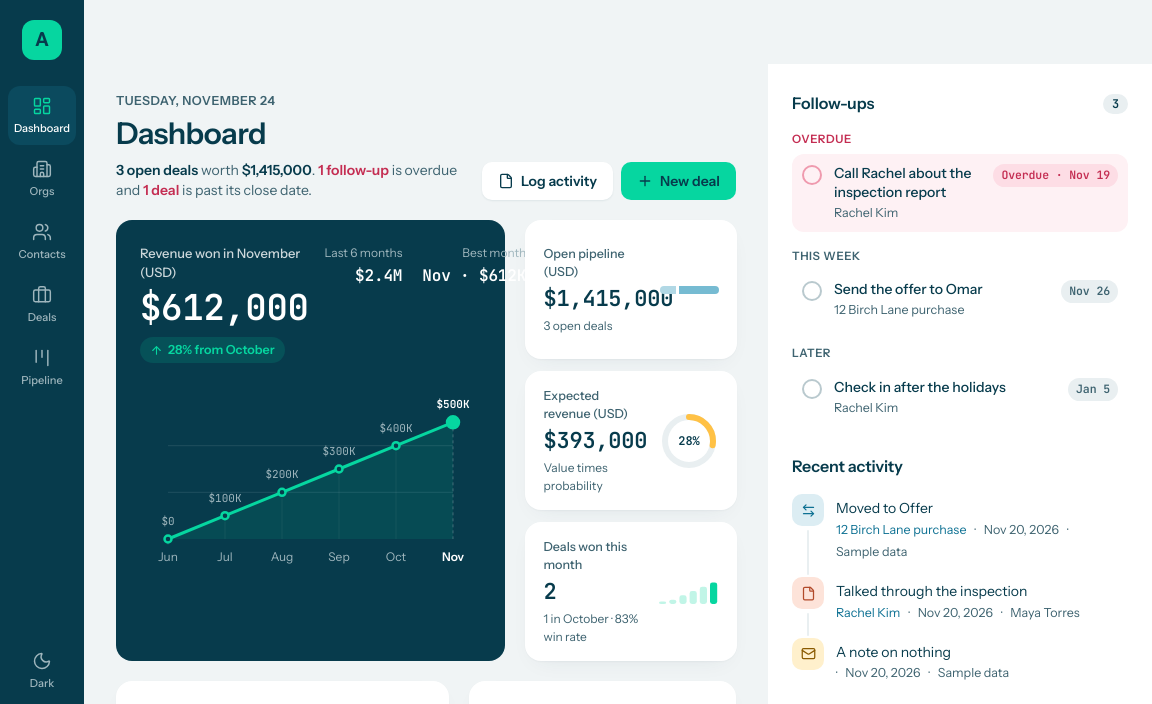
Test case: Dashboard › says why a follow-up couldn't be marked done
This screenshot has width=1152, height=704.
Click the button named "Mark done: Send the offer to Omar". click: (812, 291)
box: [802,281,822,301]
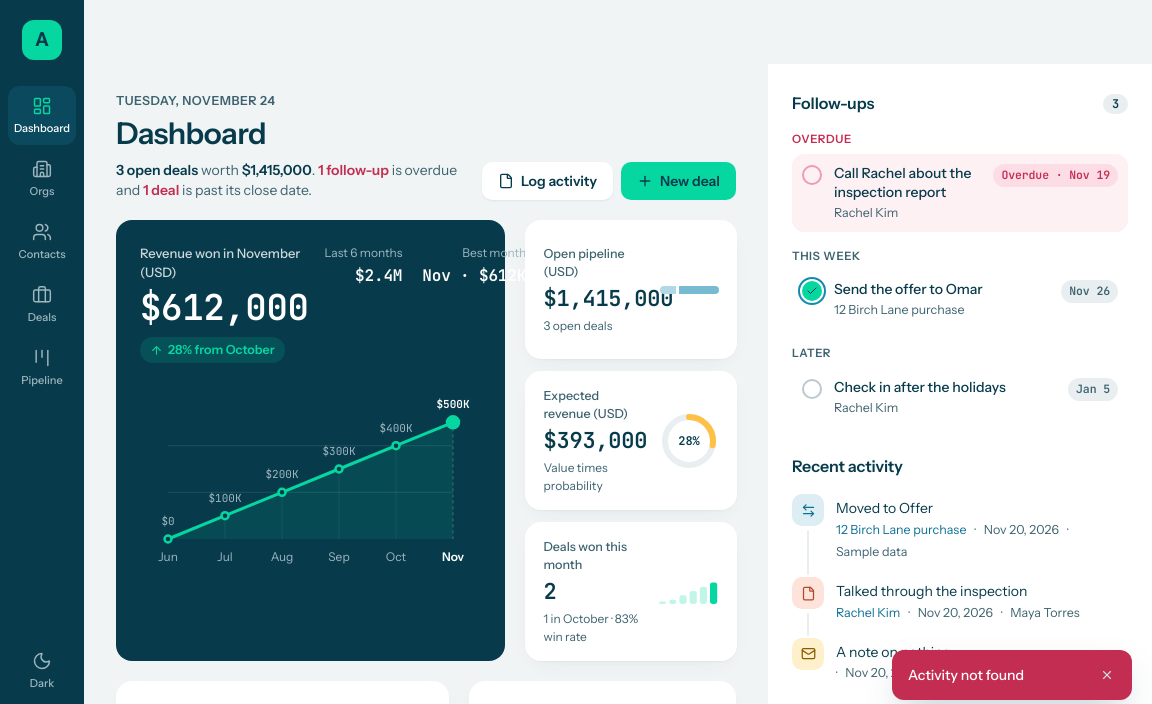
expect the text "Activity not found" is shown: met, box [908,666,1024,684]
